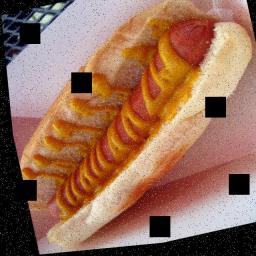hotdog: (145, 18, 219, 94), (115, 59, 184, 127), (102, 102, 154, 156), (81, 124, 134, 176), (63, 152, 112, 195), (45, 174, 94, 217), (38, 190, 78, 228)
